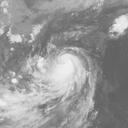cyclone: (38, 46, 95, 106)
